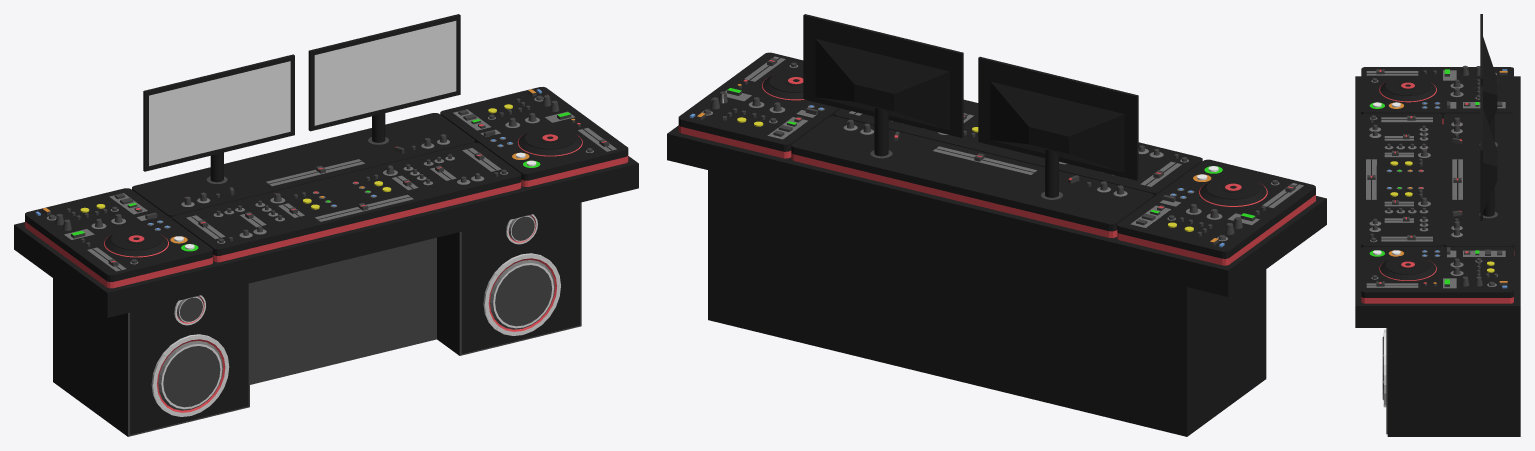
File: dj_table.glb
The picture shows the model from 3 angles, left to right: view 1: azimuth 30°, elevation 25°; view 2: azimuth 150°, elevation 25°; view 3: azimuth 270°, elevation 25°; orthographic projection. The views are drawn at different scales.
Visible parts, largest first — view 1: Cube; view 2: Cube; view 3: Cube.
Part boxes in pixels (bbox=[...]): Cube: bbox=[14, 14, 638, 436]; Cube: bbox=[667, 14, 1326, 436]; Cube: bbox=[1355, 14, 1520, 436].
Bounding box in the file's own units: 1172 × 611 × 357.
